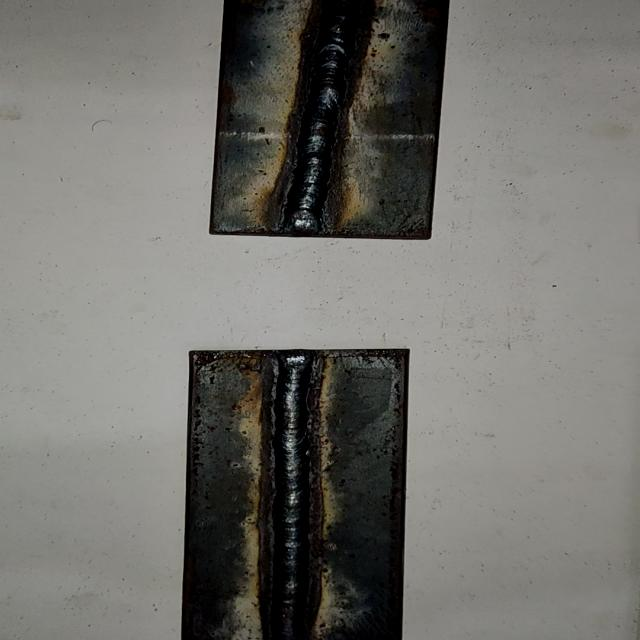Good Weld: (286, 0, 361, 228), (266, 353, 317, 640)
